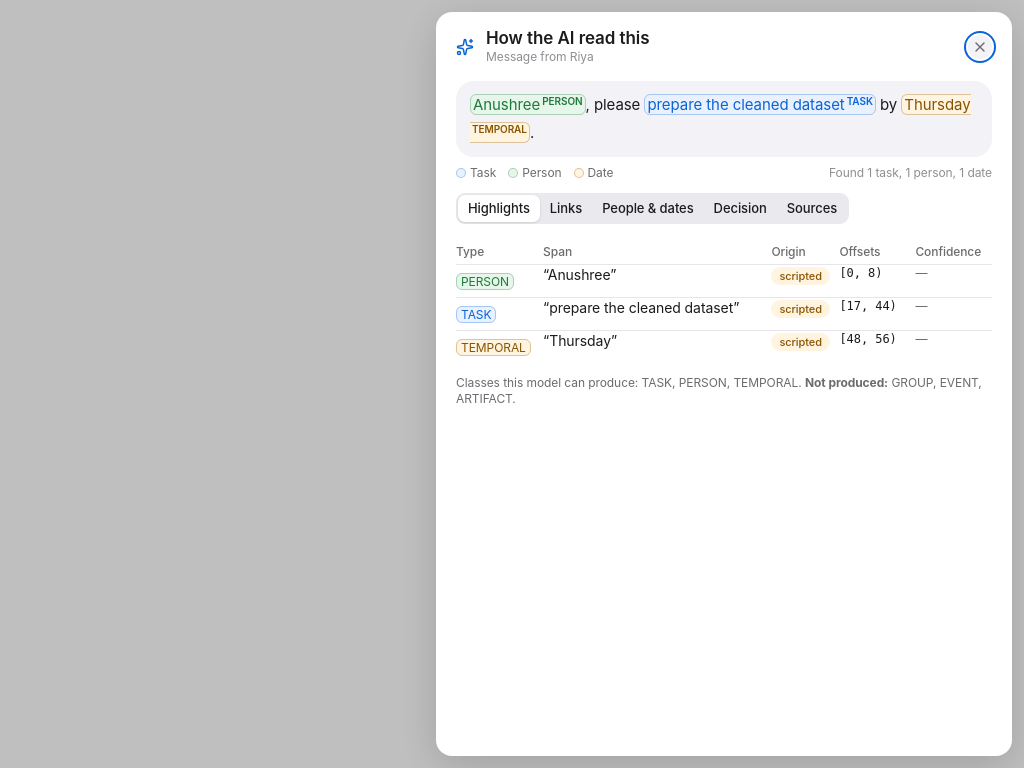
it: InspectorDrawer › a scripted relation says it has no model score
Click the tab "Links". click: (566, 209)
box: [540,195,592,222]
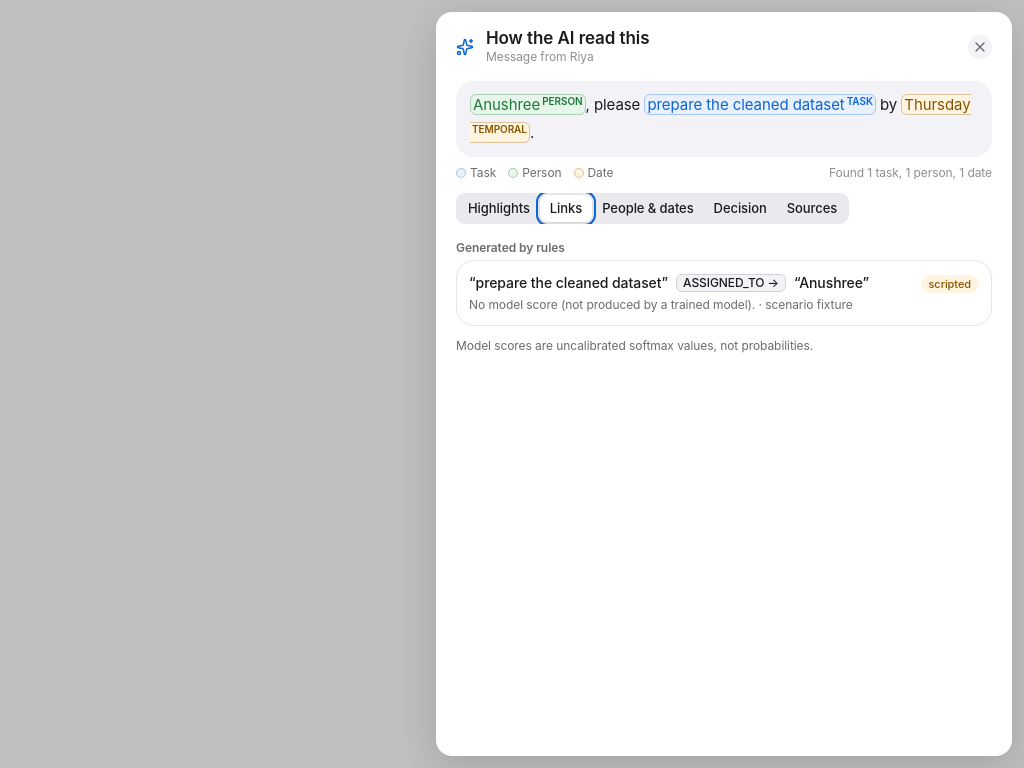
Check: the element with test id "relation" shows "No model score", box [469,297,755,312]
Check: the element with test id "relation" shows "scripted", box [928,277,971,291]
